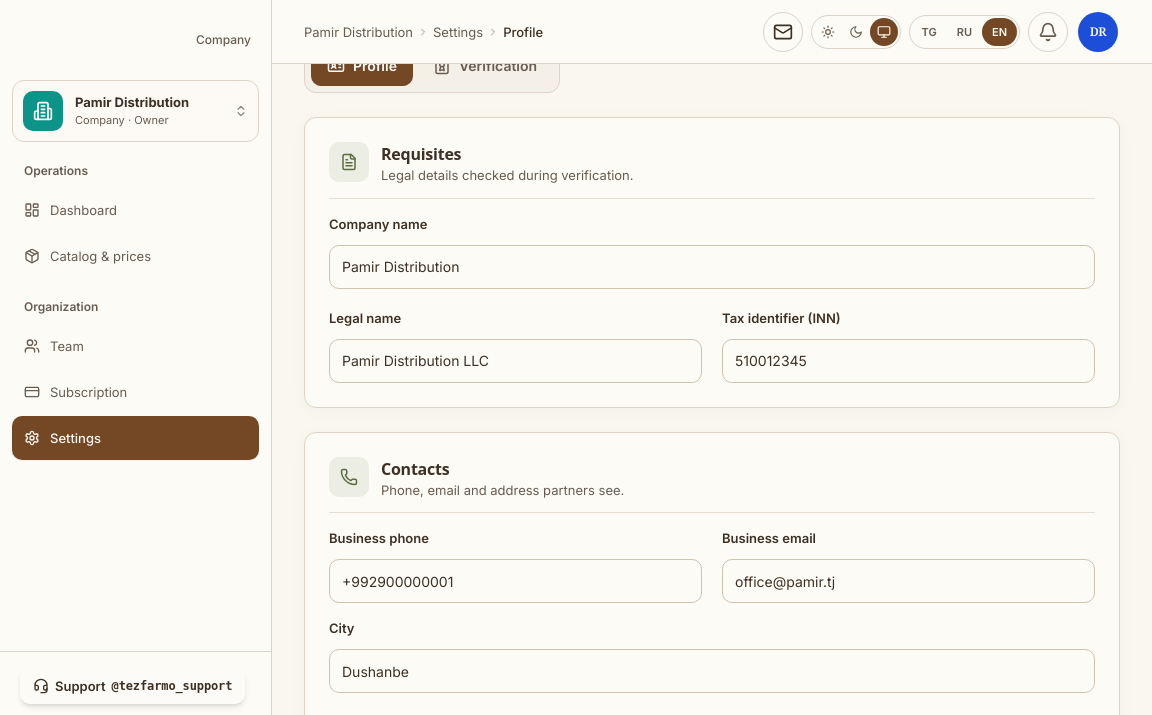
Test: organization profile (P02 §8 settings/profile) › shows a taken INN as the server explains it
(page scrolled)
Replace the text in the field labelled "Tax identifier (INN)" with "510077777": (908, 361) [735,340,1082,382]
(page scrolled)
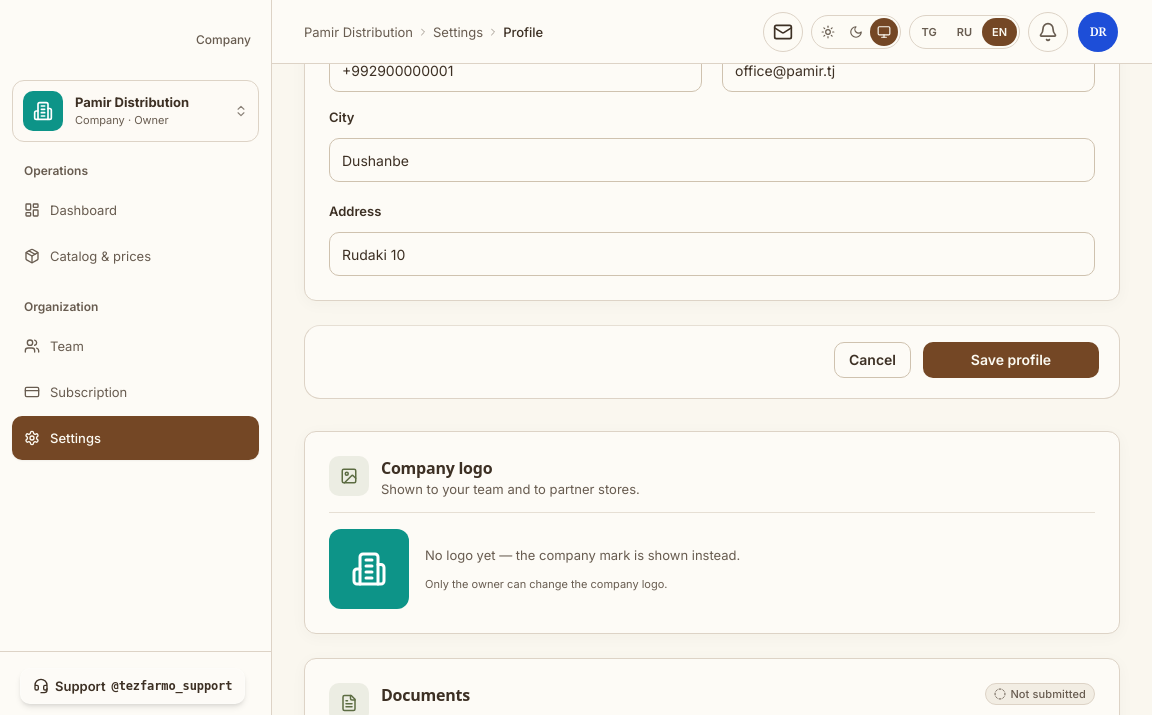
Click the button "Save profile": click(1011, 360) [923,342,1099,378]
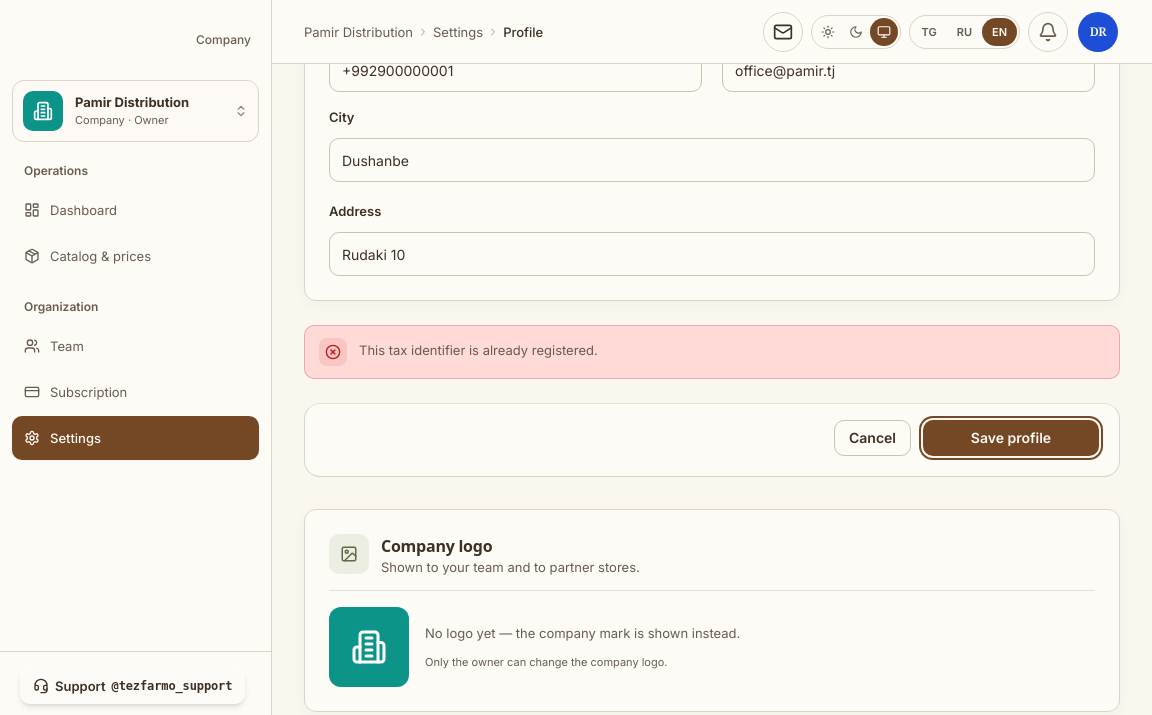
Now the text "This tax identifier is already registered." is shown, box [359,342,598,358]
